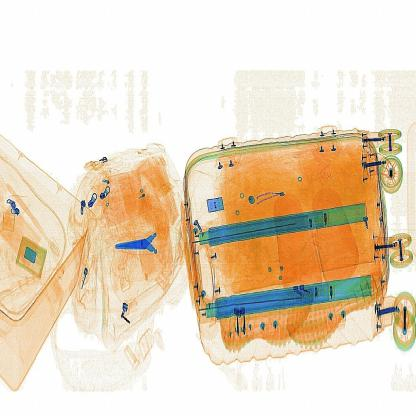gun: (111, 215, 179, 274)
